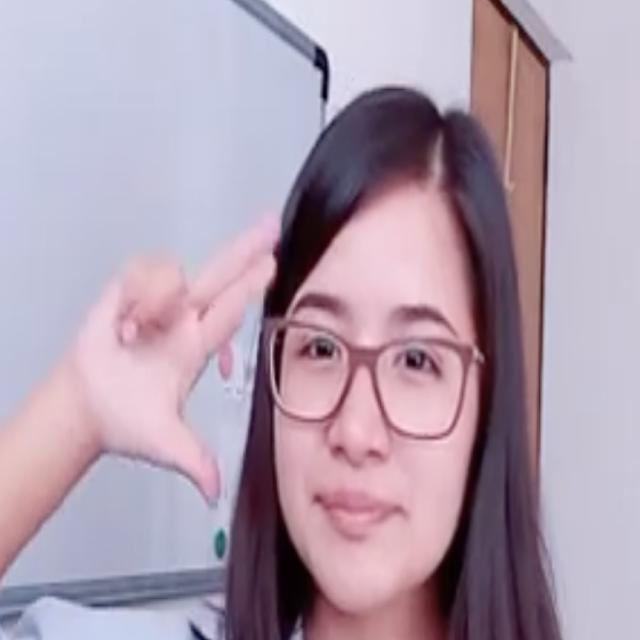hola: (70, 210, 292, 516)
